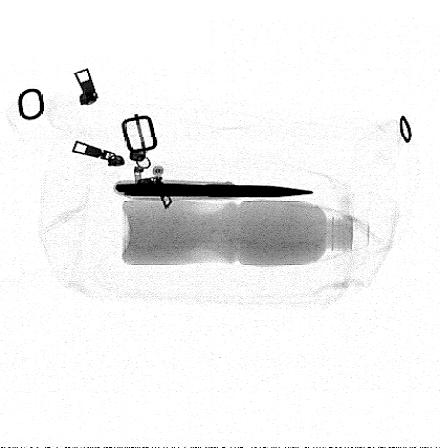Pliers: (114, 183, 315, 198)
